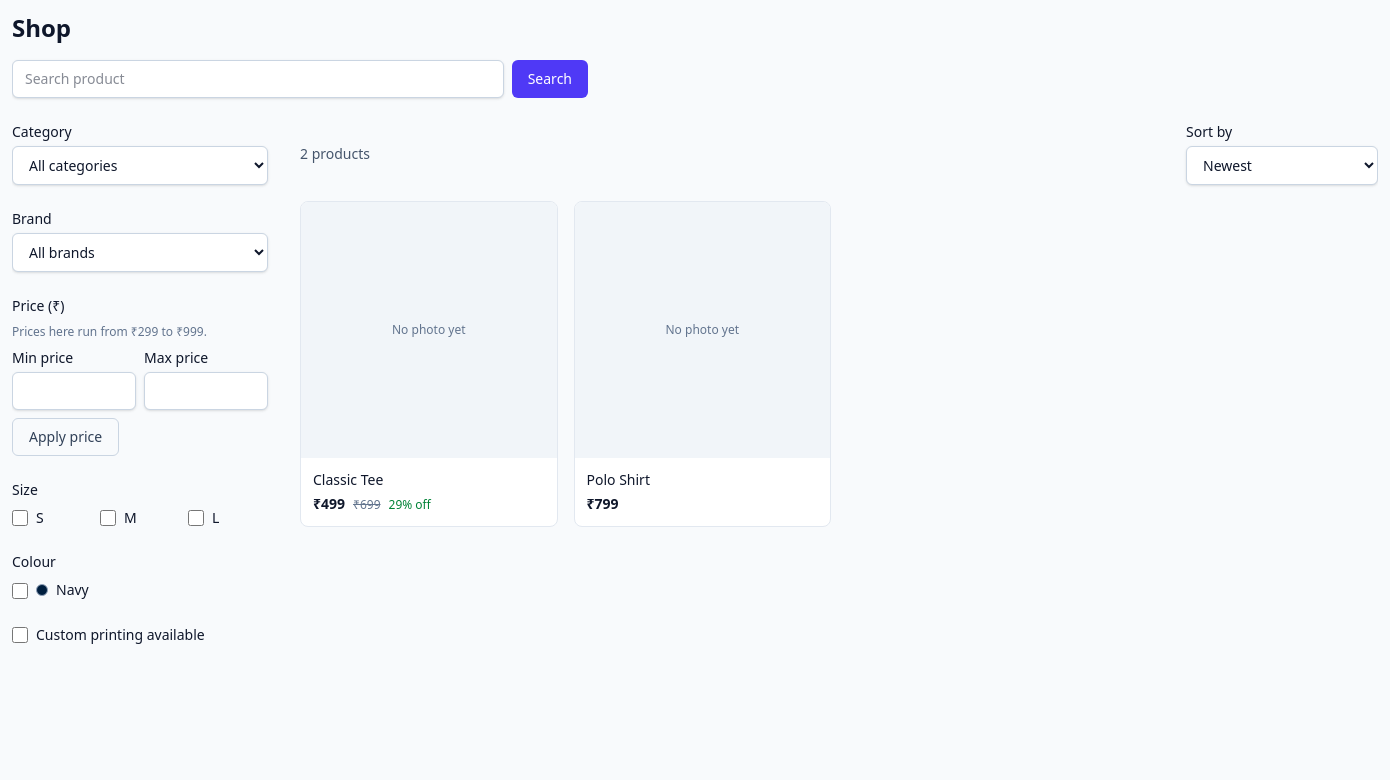
ProductListPage › rejects a price range whose minimum is above the maximum without asking the server
The image size is (1390, 780).
Expected: the link "No photo yet Classic Tee ₹499₹69929% off" is shown, [300,201,558,526]
Type "900" into the number field labelled "Min price" at (74, 391), box [12,372,136,410]
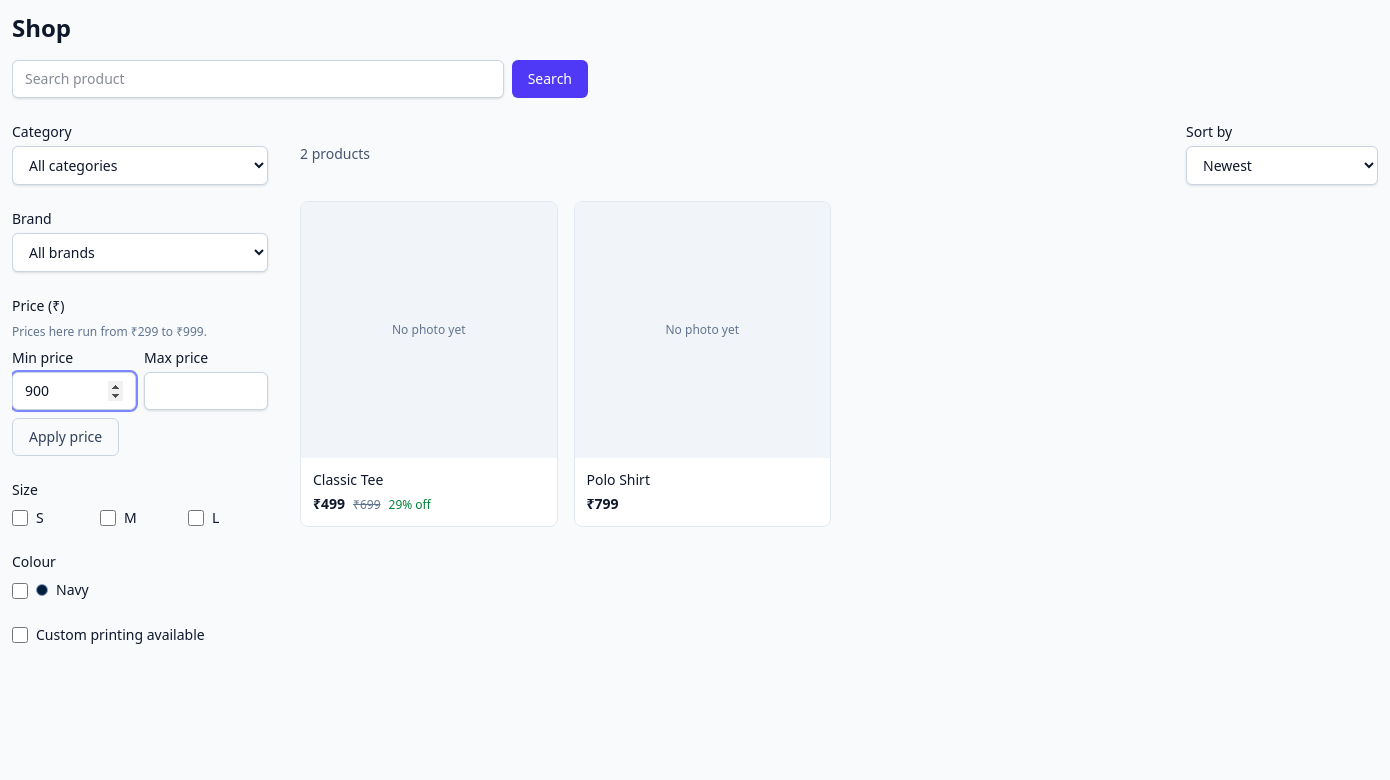
Type "100" into the number field labelled "Max price" at (206, 391), box [144,372,268,410]
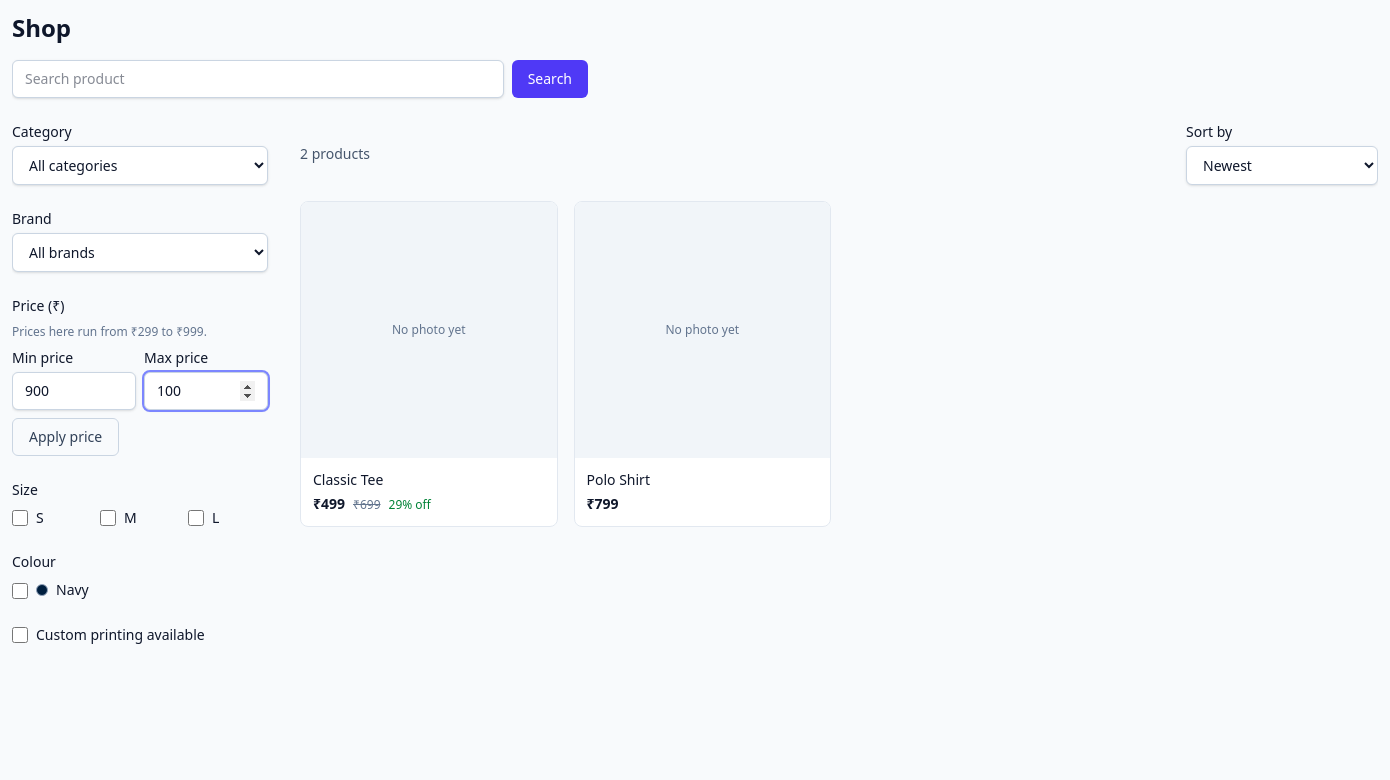
Click the button "Apply price" at (66, 437), box [12,418,119,456]
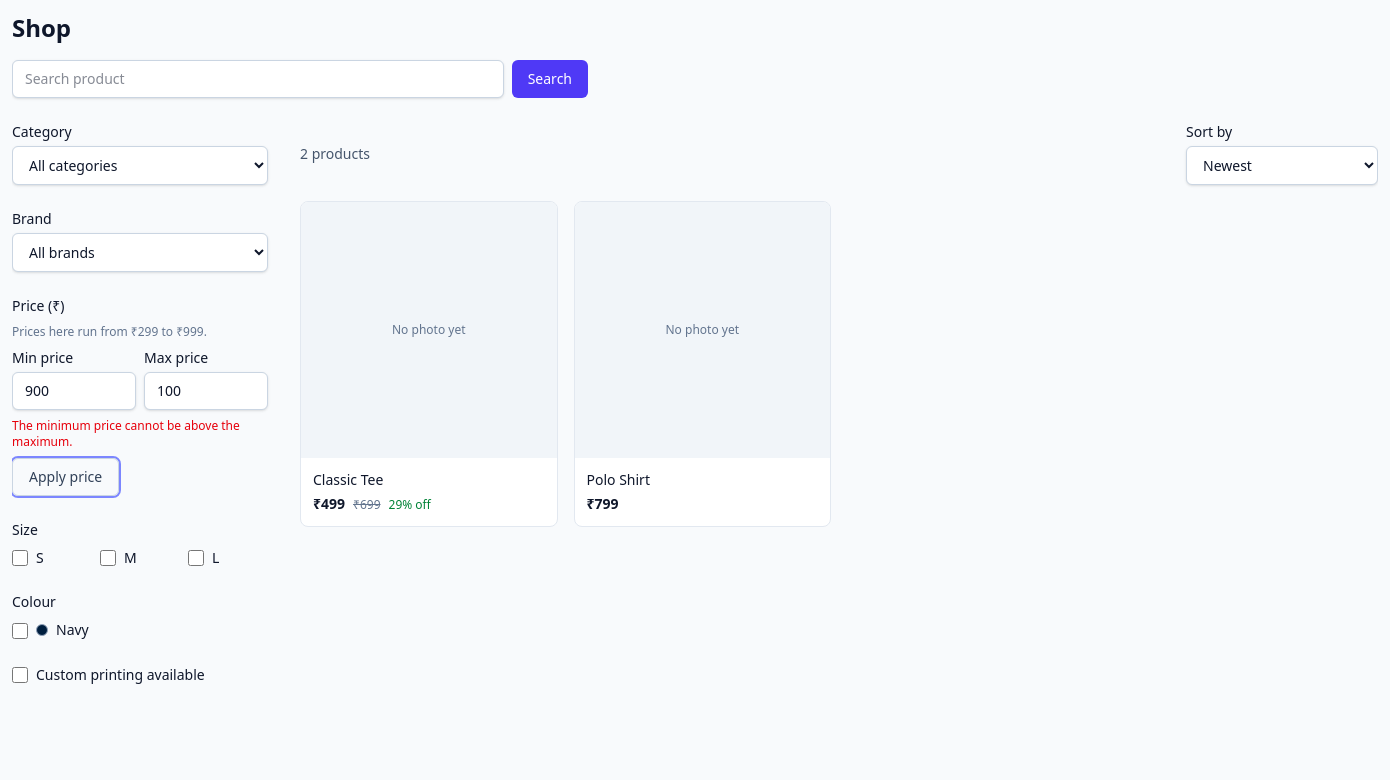
Result: the text "The minimum price cannot be above the maximum." is shown at [12,418,268,450]
